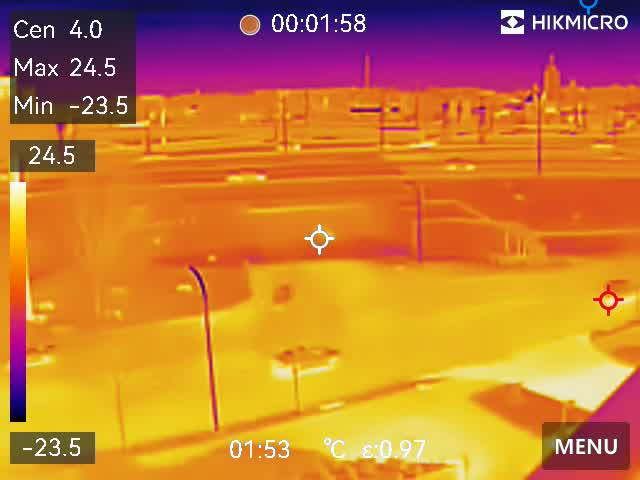heavyTruck: (379, 122, 441, 149)
smallCar: (223, 167, 269, 184), (440, 155, 480, 174)
vehicle: (271, 342, 343, 374), (268, 277, 294, 309), (276, 139, 303, 154)
